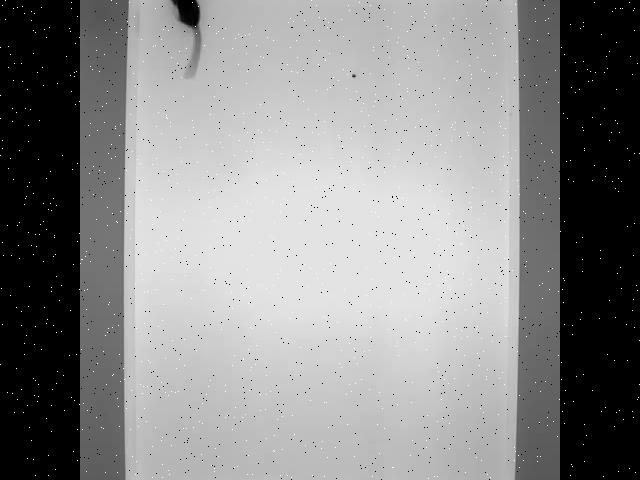Tikus: (160, 0, 204, 77)
